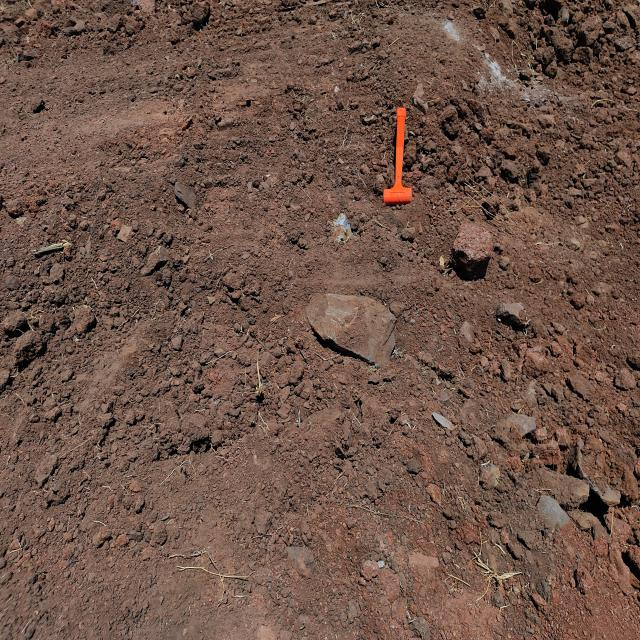Orange_hammer: (382, 106, 412, 205)
